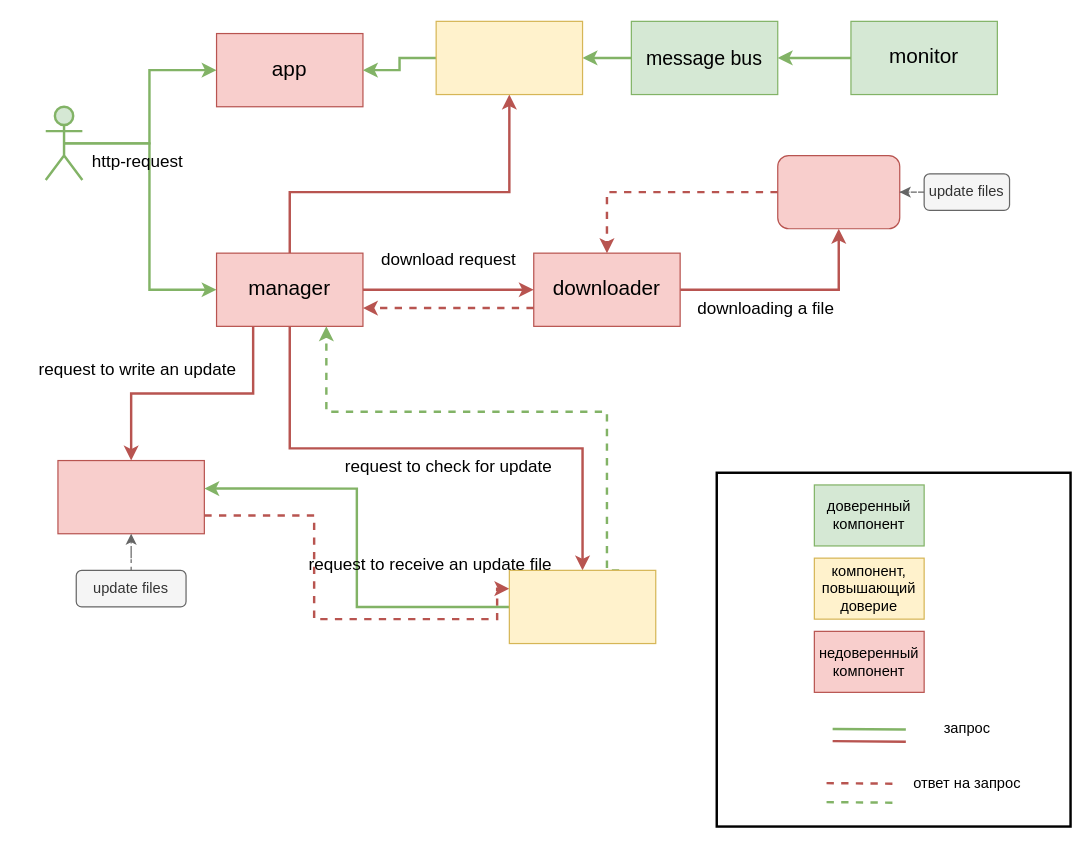
The diagram is 1092 pixels wide and 849 high, and some of its shapes have lost their labels. The box of each missing label's shape, as (x1, y1, x2, y2) in pixels:
fileserver: (777, 154, 900, 229)
storage: (57, 459, 204, 534)
update: (435, 20, 583, 95)
user: (44, 105, 83, 181)
verifier: (508, 569, 656, 644)
